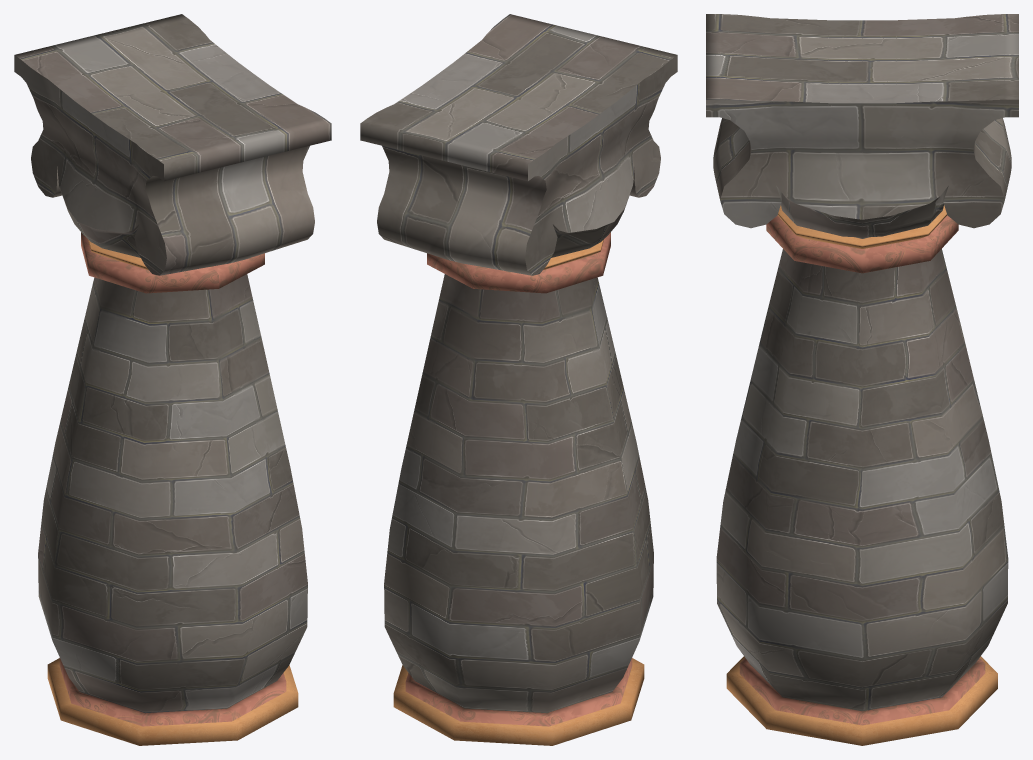
The model's file is pillar_classic_complete.fbx.
3 views of the same model, side by side, from view 1: azimuth 30°, elevation 25°; view 2: azimuth 150°, elevation 25°; view 3: azimuth 270°, elevation 25° (orthographic). The views are drawn at different scales.
Parts seen in each view (by area): view 1: pillar_classic_main, pillar_classic_top, pillar_classic_bottom1, pillar_classic_ring_mid, pillar_classic_bot_ring, pillar_classic_ring_top; view 2: pillar_classic_main, pillar_classic_top, pillar_classic_bottom1, pillar_classic_ring_mid, pillar_classic_bot_ring, pillar_classic_ring_top; view 3: pillar_classic_main, pillar_classic_top, pillar_classic_bottom1, pillar_classic_ring_mid, pillar_classic_bot_ring, pillar_classic_ring_top.
Part boxes in pixels (x1=…): pillar_classic_main: x1=38, y1=274, x2=307, y2=712; pillar_classic_top: x1=14, y1=14, x2=331, y2=275; pillar_classic_bottom1: x1=47, y1=658, x2=298, y2=745; pillar_classic_ring_mid: x1=81, y1=232, x2=264, y2=293; pillar_classic_bot_ring: x1=59, y1=657, x2=286, y2=726; pillar_classic_ring_top: x1=88, y1=239, x2=212, y2=270; pillar_classic_main: x1=384, y1=274, x2=653, y2=712; pillar_classic_top: x1=360, y1=14, x2=677, y2=275; pillar_classic_bottom1: x1=393, y1=658, x2=644, y2=745; pillar_classic_ring_mid: x1=427, y1=232, x2=610, y2=293; pillar_classic_bot_ring: x1=405, y1=658, x2=632, y2=726; pillar_classic_ring_top: x1=479, y1=239, x2=603, y2=270; pillar_classic_main: x1=716, y1=249, x2=1008, y2=711; pillar_classic_top: x1=706, y1=14, x2=1018, y2=238; pillar_classic_bottom1: x1=726, y1=656, x2=997, y2=745; pillar_classic_ring_mid: x1=766, y1=215, x2=958, y2=273; pillar_classic_bot_ring: x1=739, y1=658, x2=985, y2=725; pillar_classic_ring_top: x1=777, y1=205, x2=947, y2=248.
Bounding box in the file's own units: 2.17 × 5.17 × 2.32.
